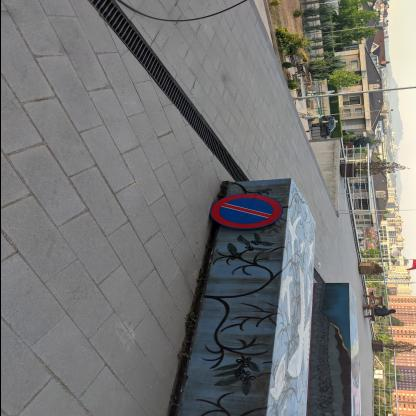No Waiting: (211, 195, 284, 230)
